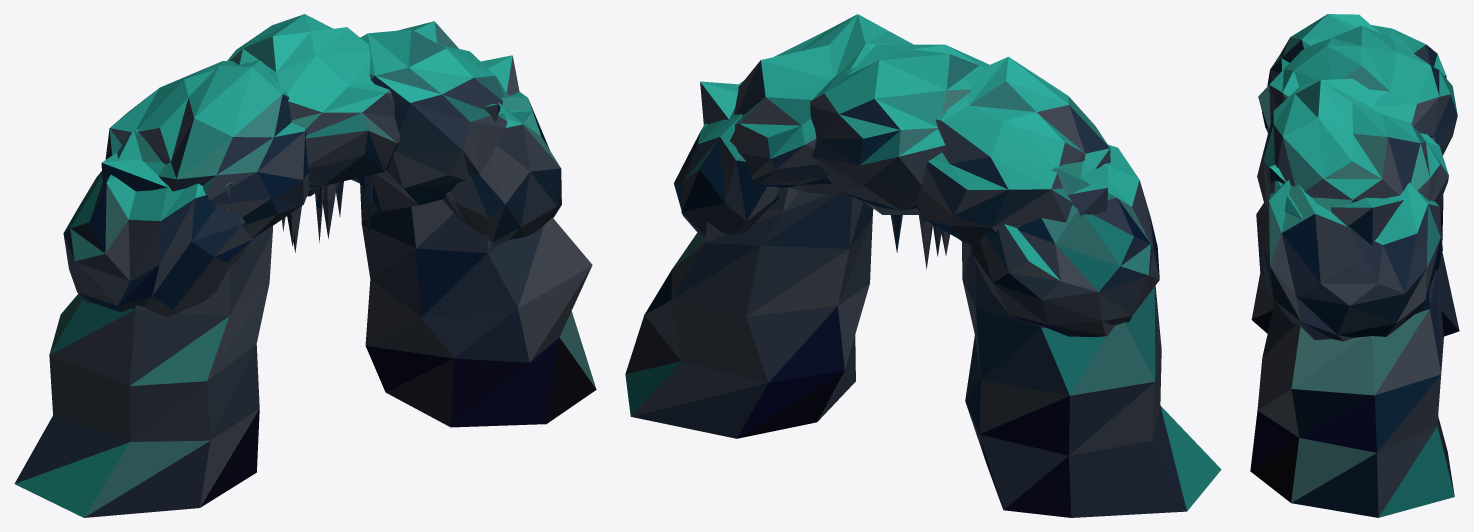
File: batu_arch_basalt_913635.glb
3 views of the same model, side by side, from view 1: azimuth 30°, elevation 25°; view 2: azimuth 150°, elevation 25°; view 3: azimuth 270°, elevation 25° (orthographic). The views are drawn at different scales.
Parts seen in each view (by area): view 1: Lengkungan_Gua_Batu; view 2: Lengkungan_Gua_Batu; view 3: Lengkungan_Gua_Batu.
Part boxes in pixels (box(x1,y1,x2,y2)): Lengkungan_Gua_Batu: box(14, 14, 596, 517); Lengkungan_Gua_Batu: box(625, 14, 1221, 517); Lengkungan_Gua_Batu: box(1250, 14, 1459, 517).
Bounding box in the file's own units: 10.94 × 7.26 × 3.9.
